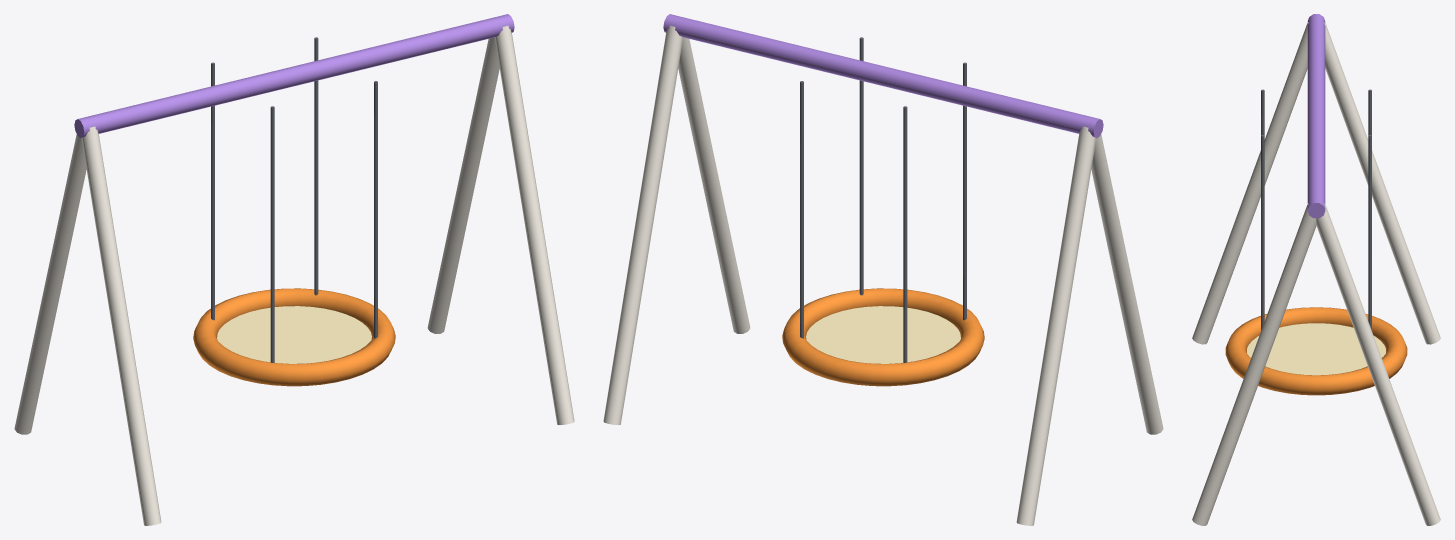
File: kswing-nest.glb
The picture shows the model from 3 angles, left to right: view 1: azimuth 30°, elevation 25°; view 2: azimuth 150°, elevation 25°; view 3: azimuth 270°, elevation 25°; orthographic projection. The views are drawn at different scales.
Bounding box in the file's own units: 2.5 × 2 × 1.39.
